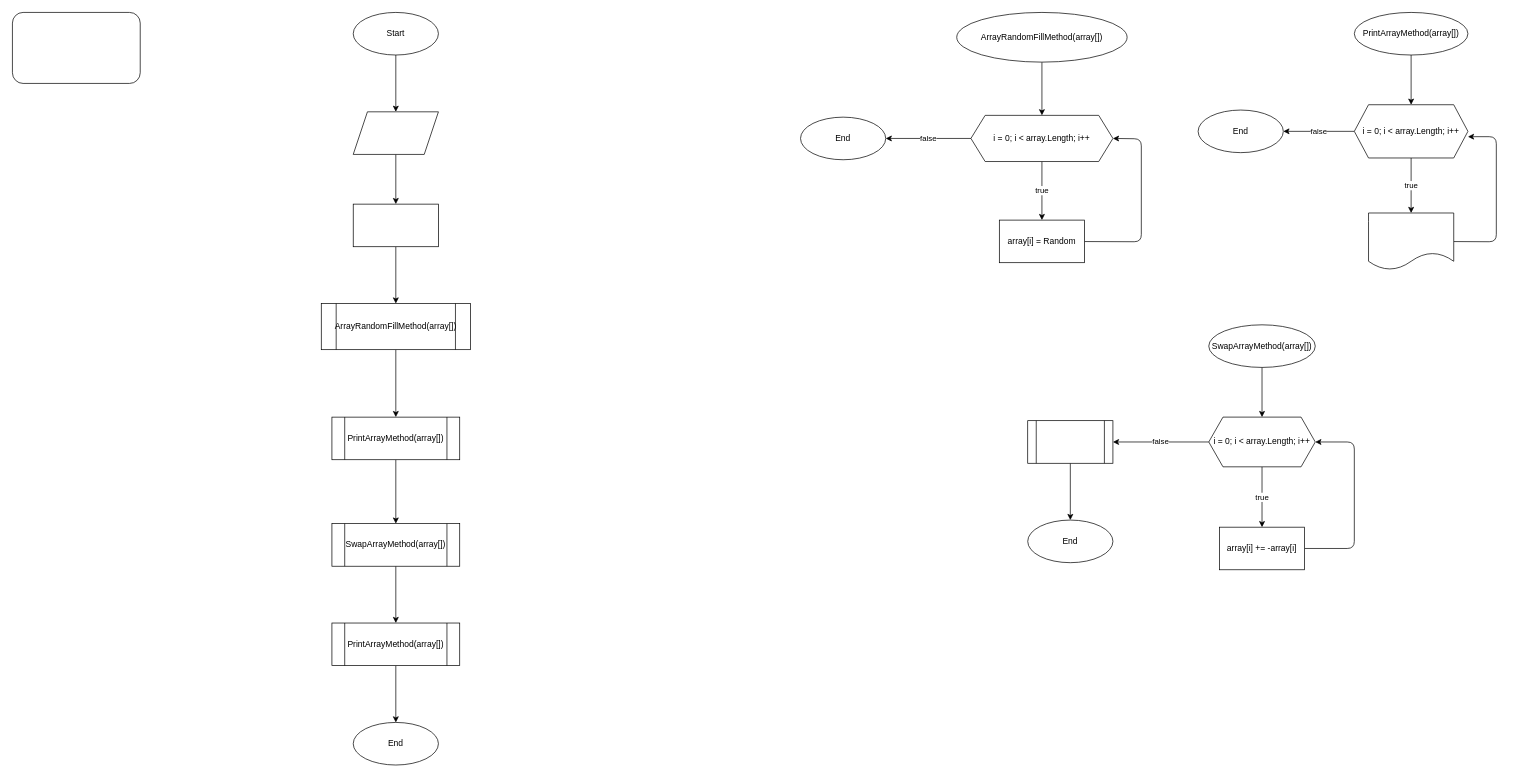
Some shapes in this 1514 by 777 pixel diagram are drawn without their labels. The shapes that lost their labels are listed below. From the top down, each one's box as (x1, y1, x2, y2) in pixels, then its label:
(12, 12, 140, 83): Написать программу замену элементов массива на противоположные
(353, 111, 438, 154): arrayLength
(353, 203, 438, 247): array[arrayLength]
(1368, 212, 1454, 270): Print array[i]
(1027, 420, 1113, 463): PrintArray(array)
